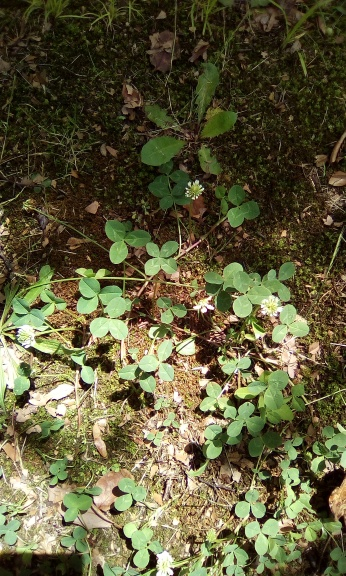4leaf: (145, 240, 178, 276)
